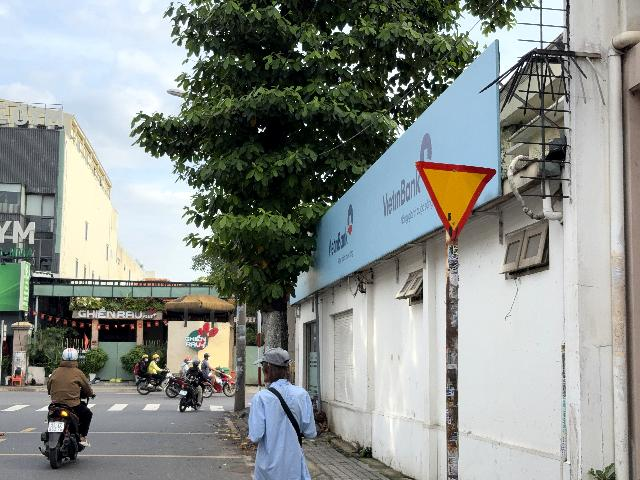giao-nhau-voi-duong-uu-tien: (415, 160, 497, 239)
